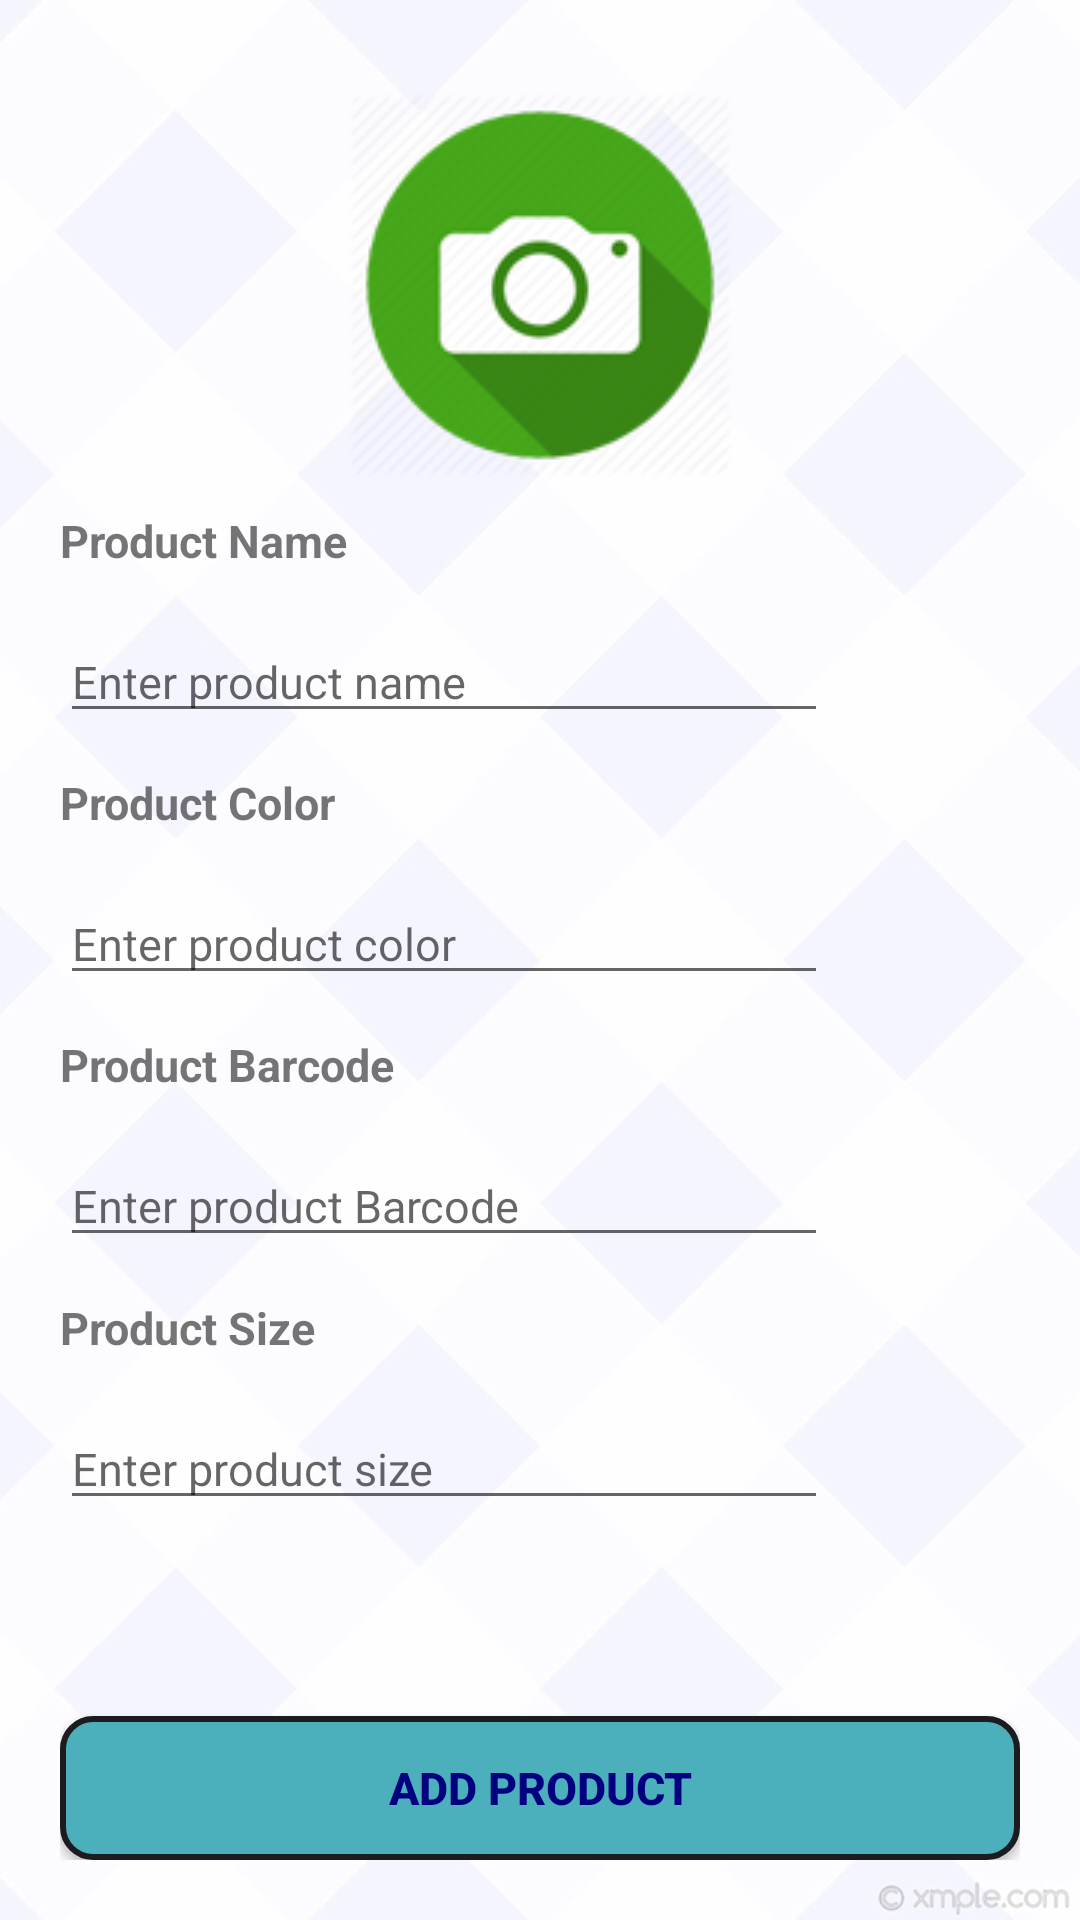

Where to tap for icons on this 1080px x 1920px app screen, as point (x, y):
cam: point (540, 285)
